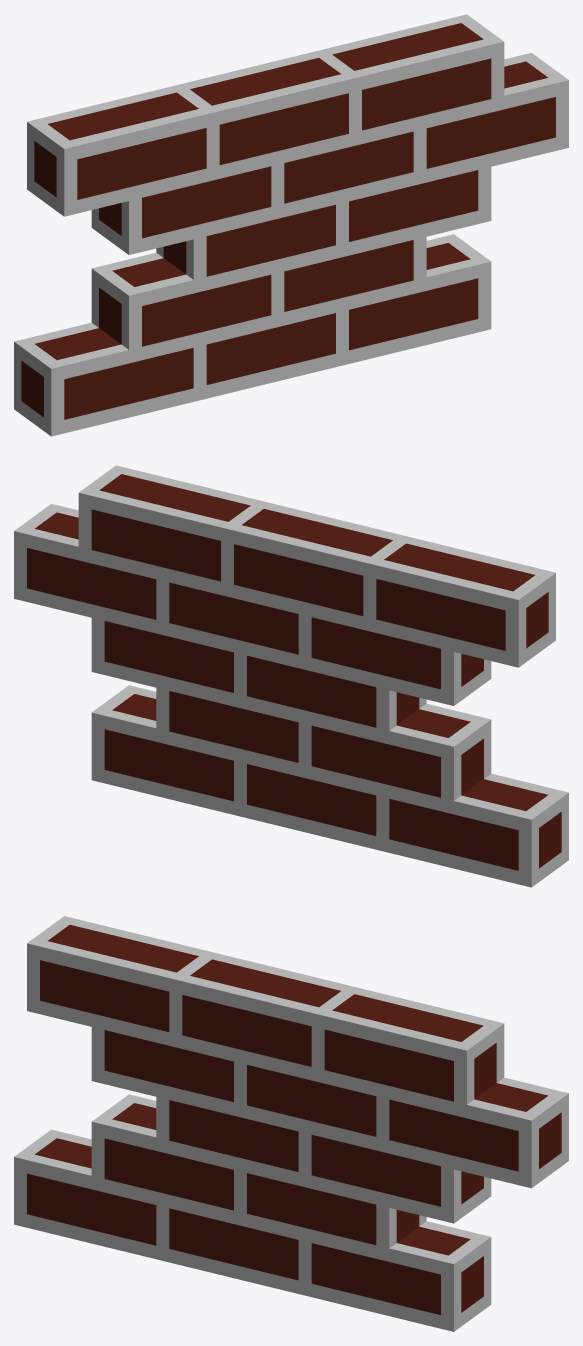
Rendered from ConstructionMaterials-107.obj.
3 views of the same model, one above another, from view 1: azimuth 30°, elevation 25°; view 2: azimuth 150°, elevation 25°; view 3: azimuth 330°, elevation 25° (orthographic).
Size of the model in its own units: 4 by 2.1 by 0.5.
1 material, 1 textured.
